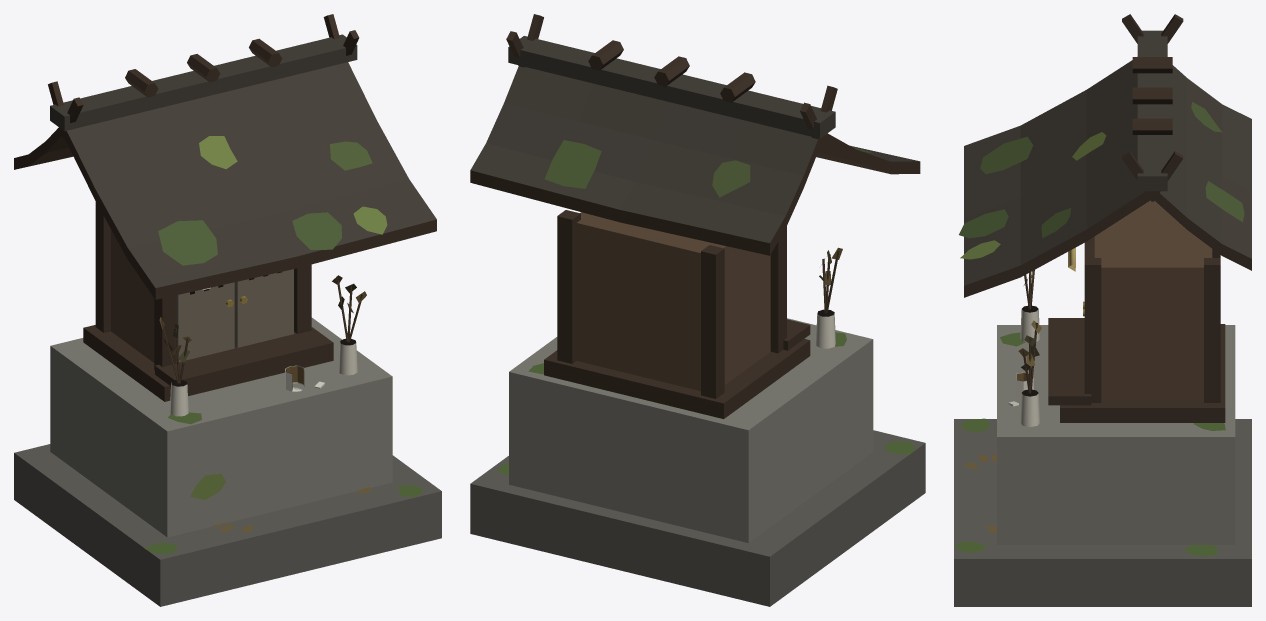
Rendered from hokora.glb.
The picture shows the model from 3 angles, left to right: view 1: azimuth 30°, elevation 25°; view 2: azimuth 150°, elevation 25°; view 3: azimuth 270°, elevation 25°; orthographic projection. The views are drawn at different scales.
Parts seen in each view (by area): view 1: hokora; view 2: hokora; view 3: hokora.
Boxes of the visible parts, x1=… form: hokora: x1=14, y1=14, x2=441, y2=606; hokora: x1=470, y1=14, x2=925, y2=606; hokora: x1=954, y1=14, x2=1251, y2=606.
Bounding box in the file's own units: 1.04 × 1.51 × 0.9.
